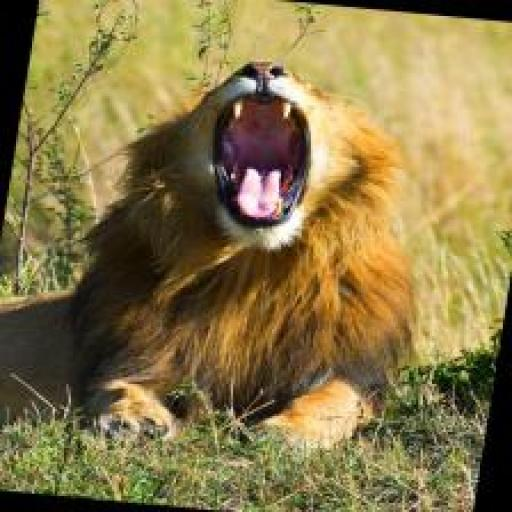lion: (0, 34, 462, 471)
